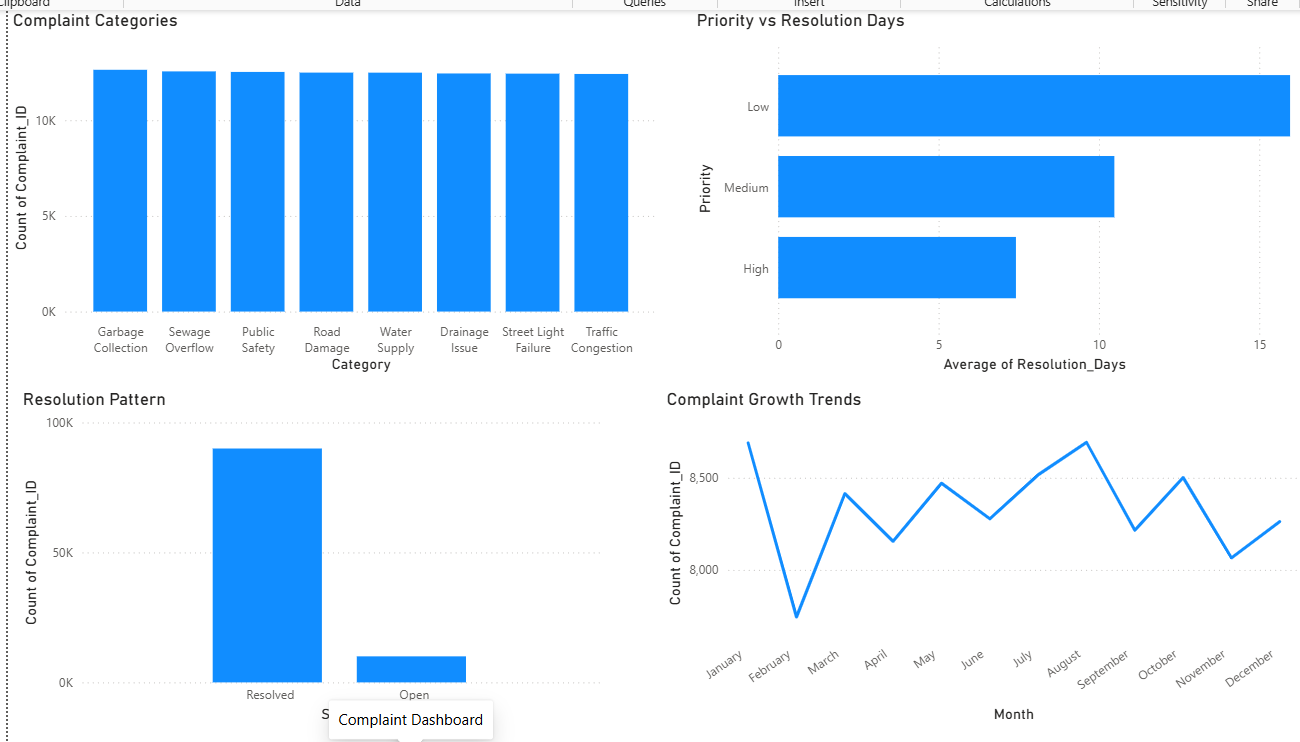

The dashboard page shown, as its layout file describes it:
{"tool":"powerbi","page":{"name":"Complaint Dashboard","canvas":[1280,720],"ordinal":1},"visuals":[{"type":"clusteredColumnChart","title":"Complaint Categories","fields":{"Category":["Smart_City_Complaints.Category"],"Y":["CountNonNull(Smart_City_Complaints.Complaint_ID)"]},"box":[0,0,640,360],"z":0},{"type":"clusteredColumnChart","title":"Resolution Pattern","fields":{"Category":["Smart_City_Complaints.Status"],"Y":["CountNonNull(Smart_City_Complaints.Complaint_ID)"]},"box":[10,370,576.2,331.2],"z":1000},{"type":"clusteredBarChart","title":"Priority vs Resolution Days","fields":{"Category":["Smart_City_Complaints.Priority"],"Y":["Avg(Smart_City_Complaints.Resolution_Days)"]},"box":[668.8,0,598.8,360],"z":1001},{"type":"lineChart","title":"Complaint Growth Trends","fields":{"Category":["Smart_City_Complaints.Complaint_Date.Variation.Date Hierarchy.Month"],"Y":["CountNonNull(Smart_City_Complaints.Complaint_ID)"]},"box":[640,370,628.8,331.2],"z":1002}]}

Visuals, with their boxes on the page's 1280x720 design canvas (x1, y1, x2, y2). These are canvas units, not pixel positions in the 1300x742 screenshot, which may show the page scaled, cropped or inside an application window:
"Complaint Categories" clusteredColumnChart: {"left": 0, "top": 0, "right": 640, "bottom": 360}
"Resolution Pattern" clusteredColumnChart: {"left": 10, "top": 370, "right": 586, "bottom": 701}
"Priority vs Resolution Days" clusteredBarChart: {"left": 669, "top": 0, "right": 1268, "bottom": 360}
"Complaint Growth Trends" lineChart: {"left": 640, "top": 370, "right": 1269, "bottom": 701}
